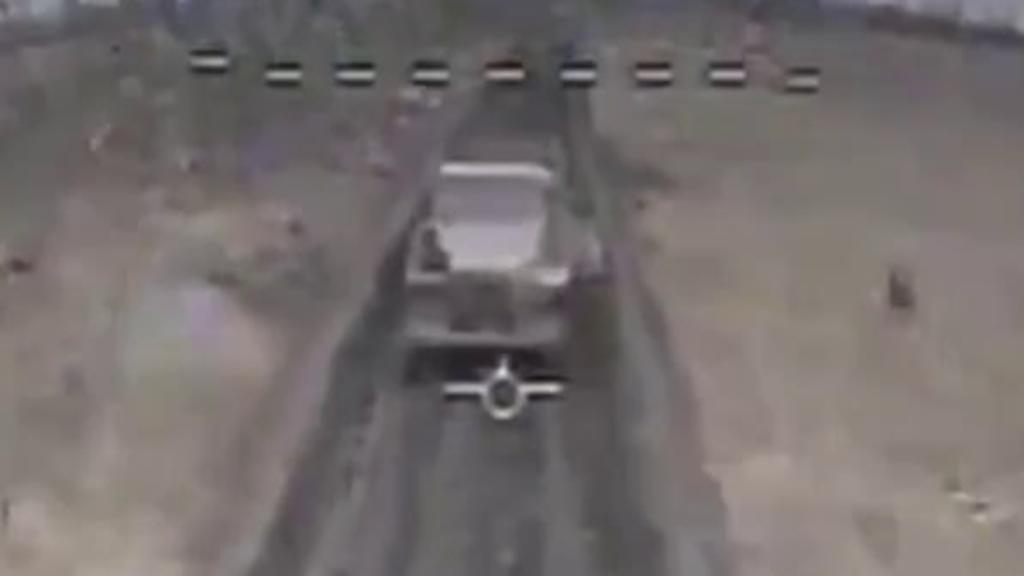TRUCK: (394, 113, 590, 372)
